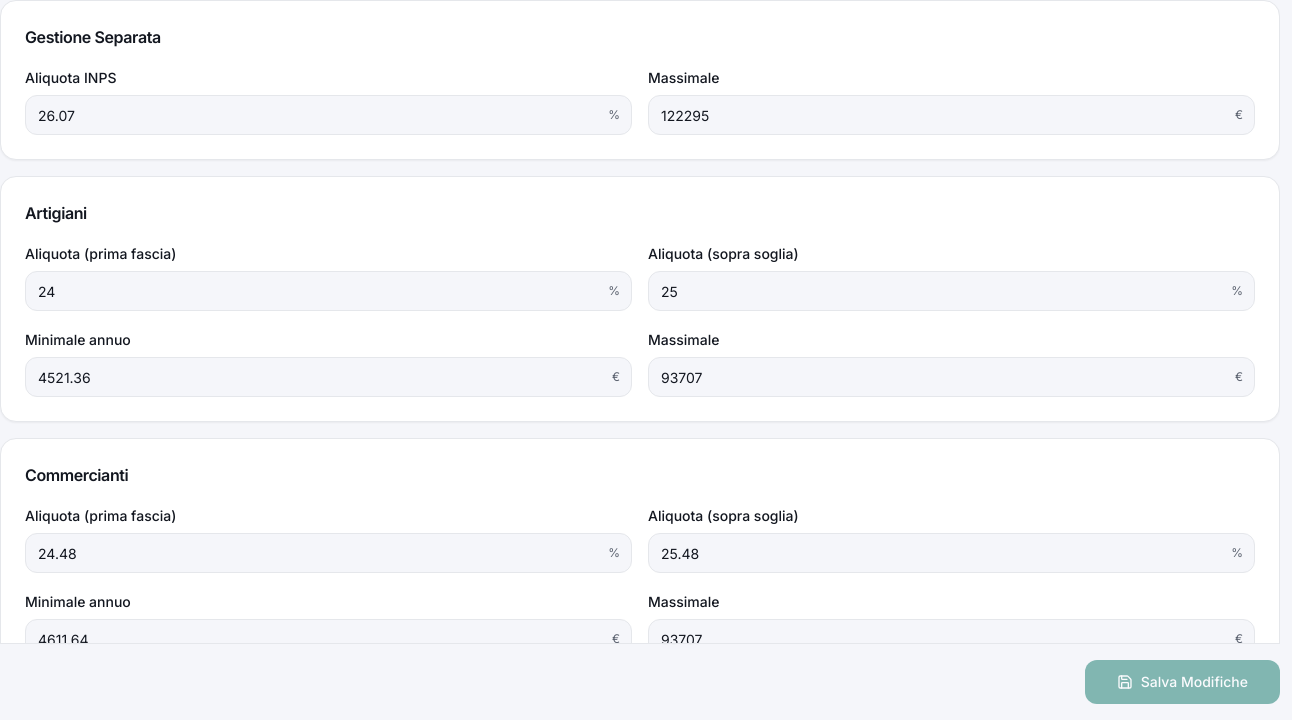
Scenario: FiscalRulesForm › mostra errore validazione per aliquota negativa
Replace the text in the field labelled "Aliquota INPS" with "-5" at (328, 115), box [25,95,632,135]
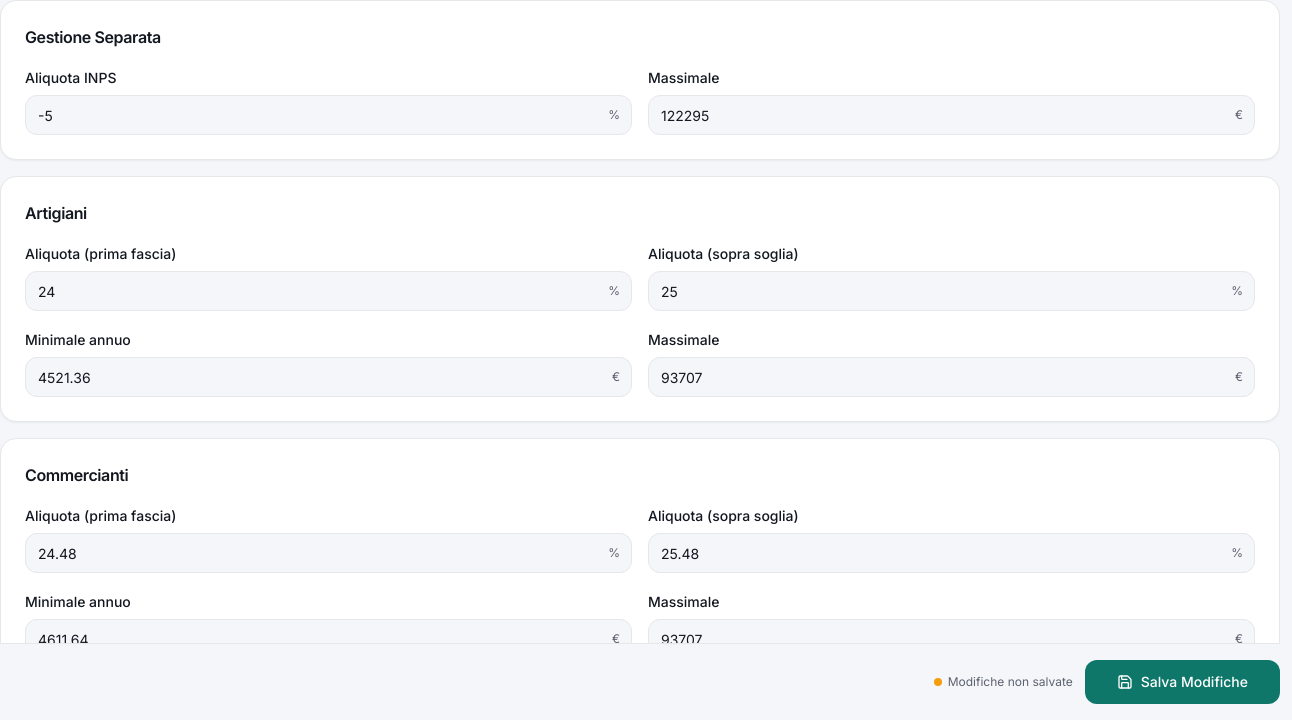
Click the button "Salva Modifiche".
click(1182, 682)  # box [1085,660,1280,704]
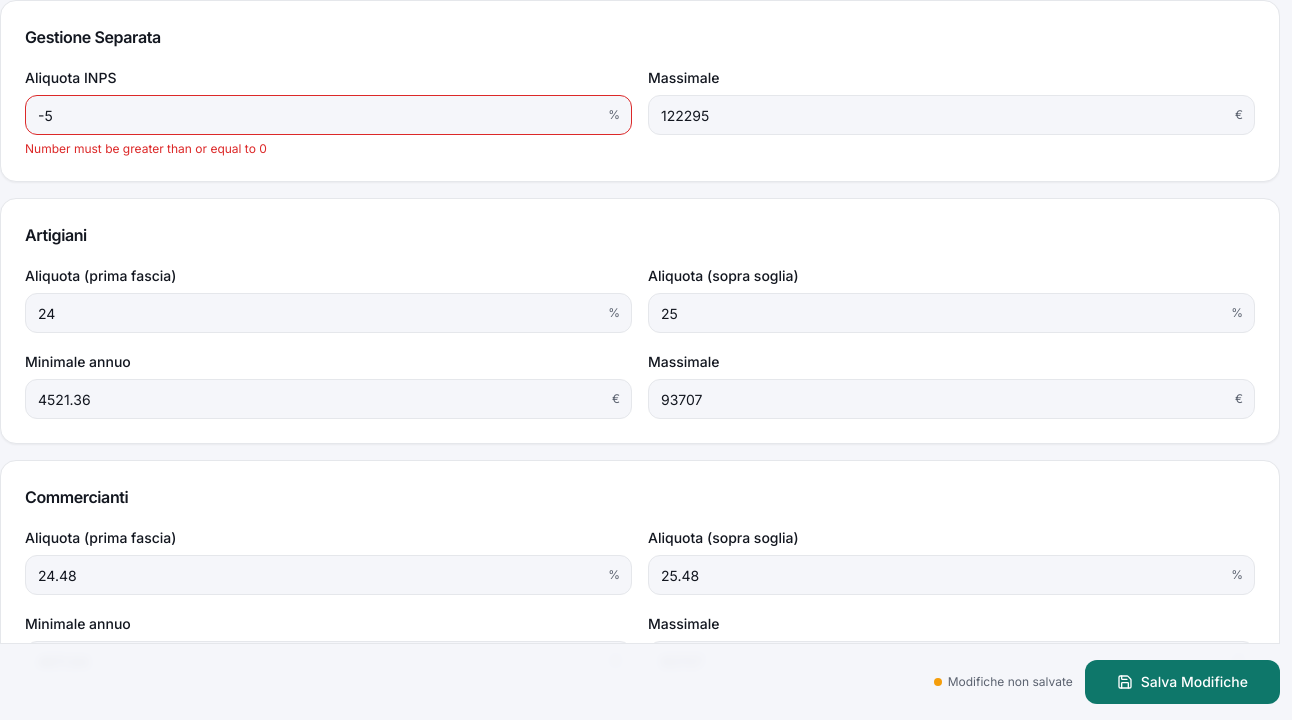
expect the text "Number must be greater than or equal to 0" is shown: met, box [25,141,267,156]
